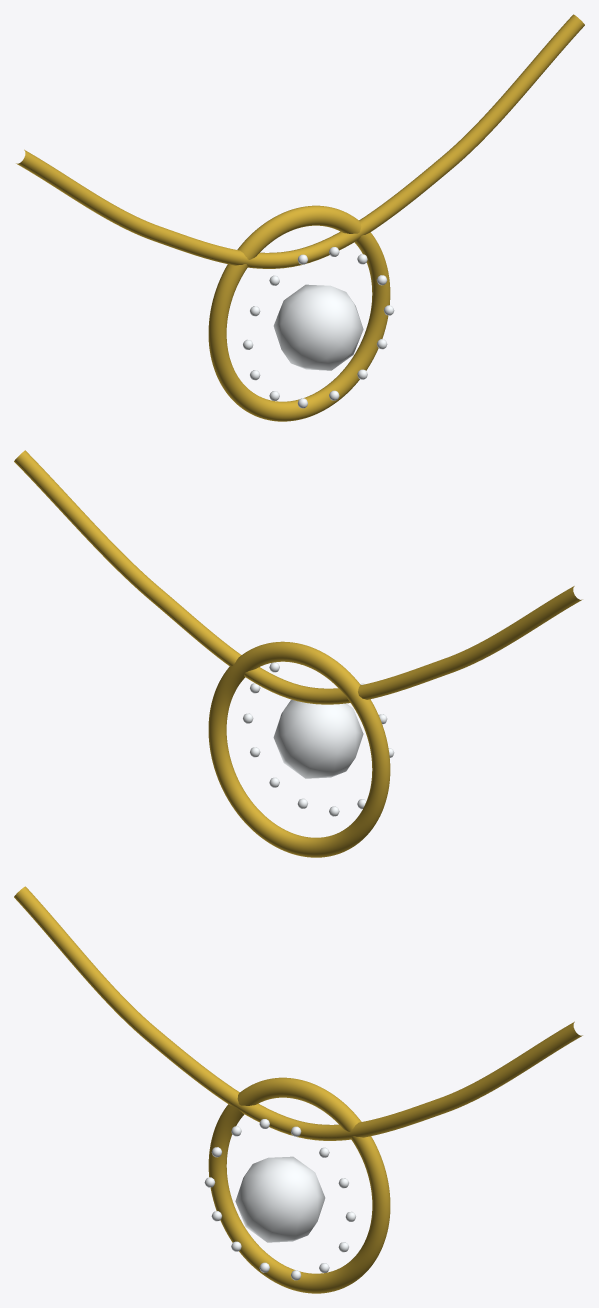
The model's file is maya-gold-anklet-pair.glb.
3 renders of one model, top to bottom at view 1: azimuth 30°, elevation 25°; view 2: azimuth 150°, elevation 25°; view 3: azimuth 330°, elevation 25°, orthographic.
Visible parts, largest first — view 1: chain, pendant_frame, pendant_gem; view 2: pendant_frame, chain, pendant_gem; view 3: chain, pendant_frame, pendant_gem.
Boxes of the visible parts, box(x1,y1,x2,y2) form: chain: box(16, 14, 584, 268); pendant_frame: box(208, 205, 390, 421); pendant_gem: box(273, 284, 363, 370); pendant_frame: box(208, 641, 390, 857); chain: box(14, 450, 582, 704); pendant_gem: box(273, 699, 363, 778); chain: box(14, 886, 582, 1140); pendant_frame: box(208, 1077, 390, 1293); pendant_gem: box(235, 1156, 325, 1242).
Size of the model in its own units: 2.74 by 1.55 by 0.387.
